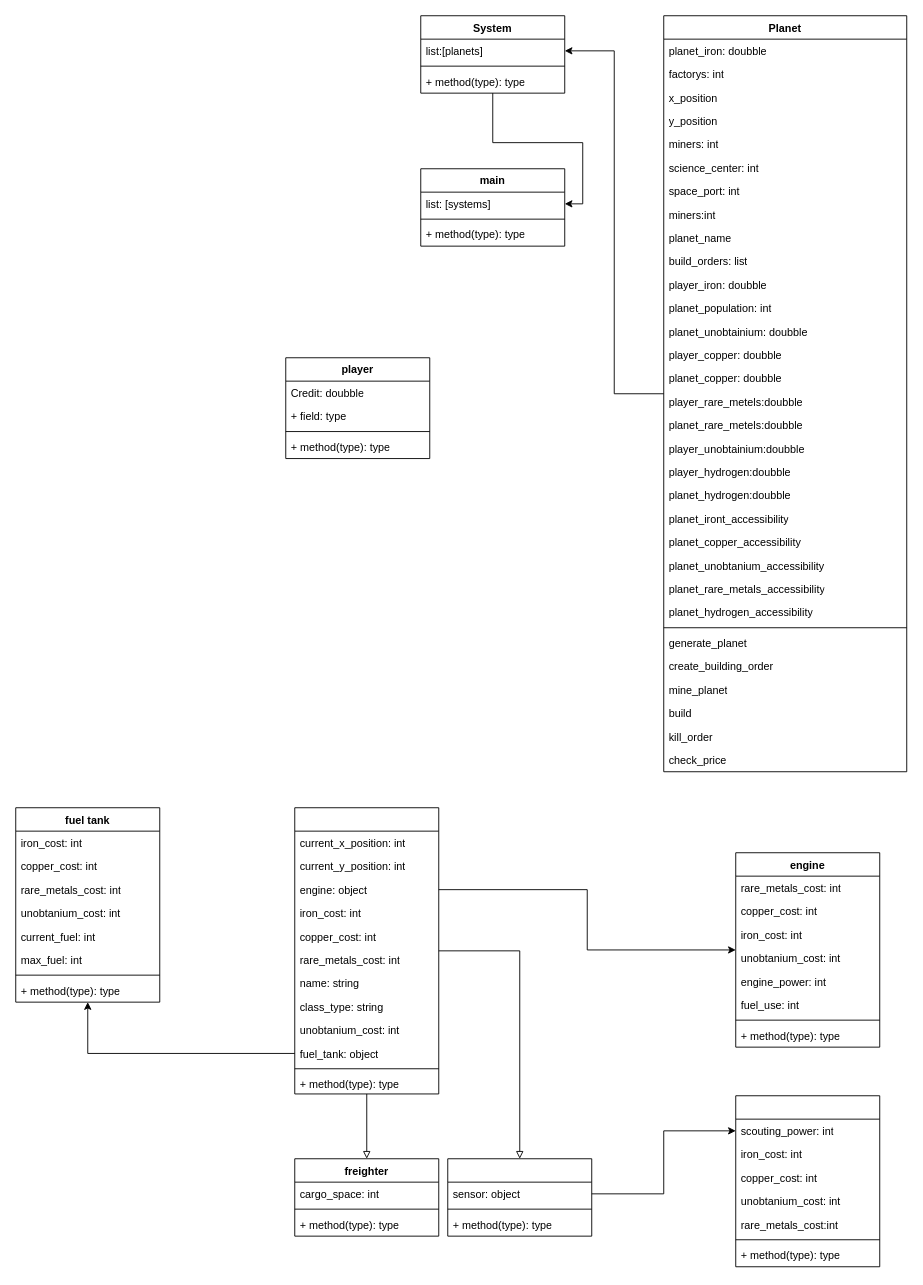
Some shapes in this 923 by 1285 pixel diagram are drawn without their labels. The box of each missing label's shape, as (x1, y1, x2, y2) in pixels:
scout: (447, 1158, 592, 1236)
sensor: (735, 1095, 880, 1267)
ship: (294, 807, 439, 1094)
